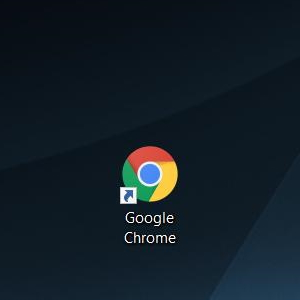chrome: (119, 145, 178, 205)
